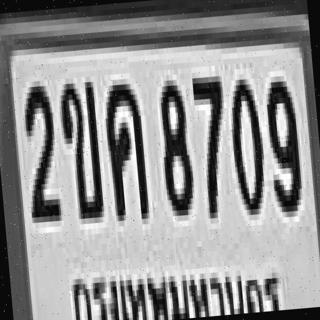A02: (57, 76, 102, 220)
A04: (100, 78, 147, 216)
N00: (225, 73, 266, 210)
N02: (18, 80, 59, 218)
N07: (190, 70, 231, 214)
N08: (154, 74, 193, 211)
N09: (262, 70, 302, 212)
P04: (66, 239, 284, 320)
